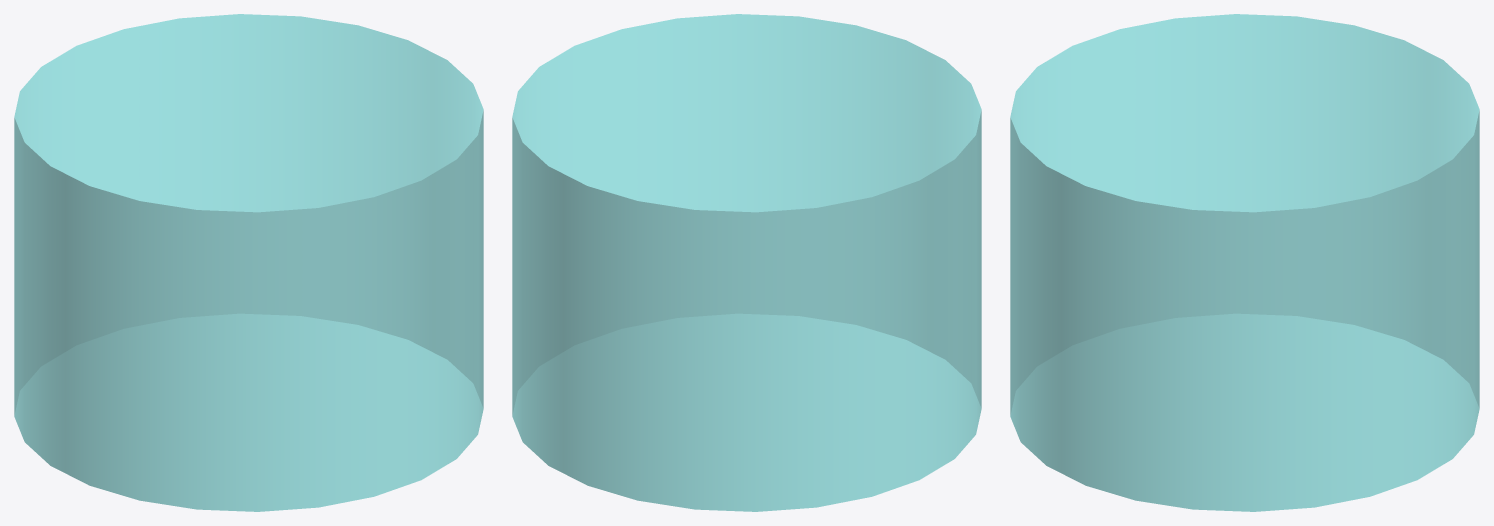
File: original-14.obj
3 renders of one model, left to right at view 1: azimuth 30°, elevation 25°; view 2: azimuth 150°, elevation 25°; view 3: azimuth 270°, elevation 25°, orthographic.
Parts seen in each view (by area): view 1: Group11/mesh8/mesh8-geometry#mesh8-geometry; view 2: Group11/mesh8/mesh8-geometry#mesh8-geometry; view 3: Group11/mesh8/mesh8-geometry#mesh8-geometry.
Boxes of the visible parts, x1,y1,x2,y2 form: Group11/mesh8/mesh8-geometry#mesh8-geometry: (14,14,483,511); Group11/mesh8/mesh8-geometry#mesh8-geometry: (512,14,981,511); Group11/mesh8/mesh8-geometry#mesh8-geometry: (1010,14,1479,511).
Size of the model in its own units: 0.1666 by 0.1174 by 0.1666.
